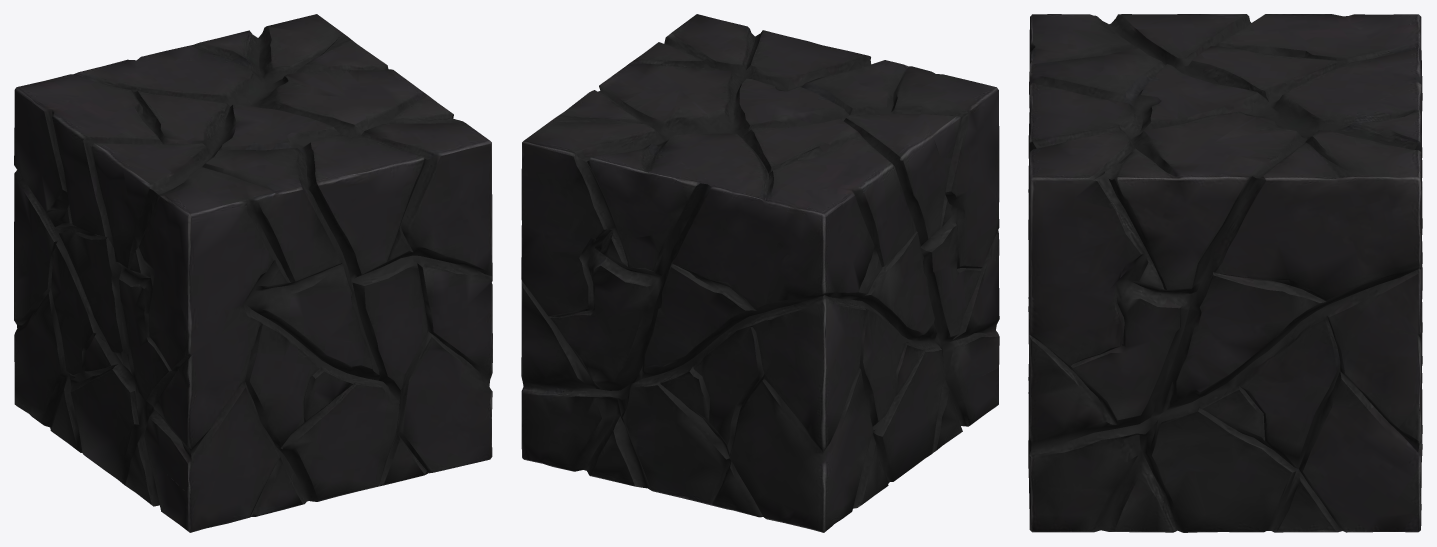
File: block_bedrock_idle.glb
3 views of the same model, side by side, from view 1: azimuth 30°, elevation 25°; view 2: azimuth 150°, elevation 25°; view 3: azimuth 270°, elevation 25° (orthographic). The views are drawn at different scales.
Visible parts, largest first — view 1: tripo_node_bfad3409-8659-4730-a6ab-b5fae1e6502f; view 2: tripo_node_bfad3409-8659-4730-a6ab-b5fae1e6502f; view 3: tripo_node_bfad3409-8659-4730-a6ab-b5fae1e6502f.
Part boxes in pixels (left/top/right/bottom): tripo_node_bfad3409-8659-4730-a6ab-b5fae1e6502f: left=14, top=14, right=492, bottom=532; tripo_node_bfad3409-8659-4730-a6ab-b5fae1e6502f: left=521, top=14, right=999, bottom=532; tripo_node_bfad3409-8659-4730-a6ab-b5fae1e6502f: left=1028, top=14, right=1422, bottom=532.
Size of the model in its own units: 0.9996 by 1 by 1.
1 material, 1 textured.
